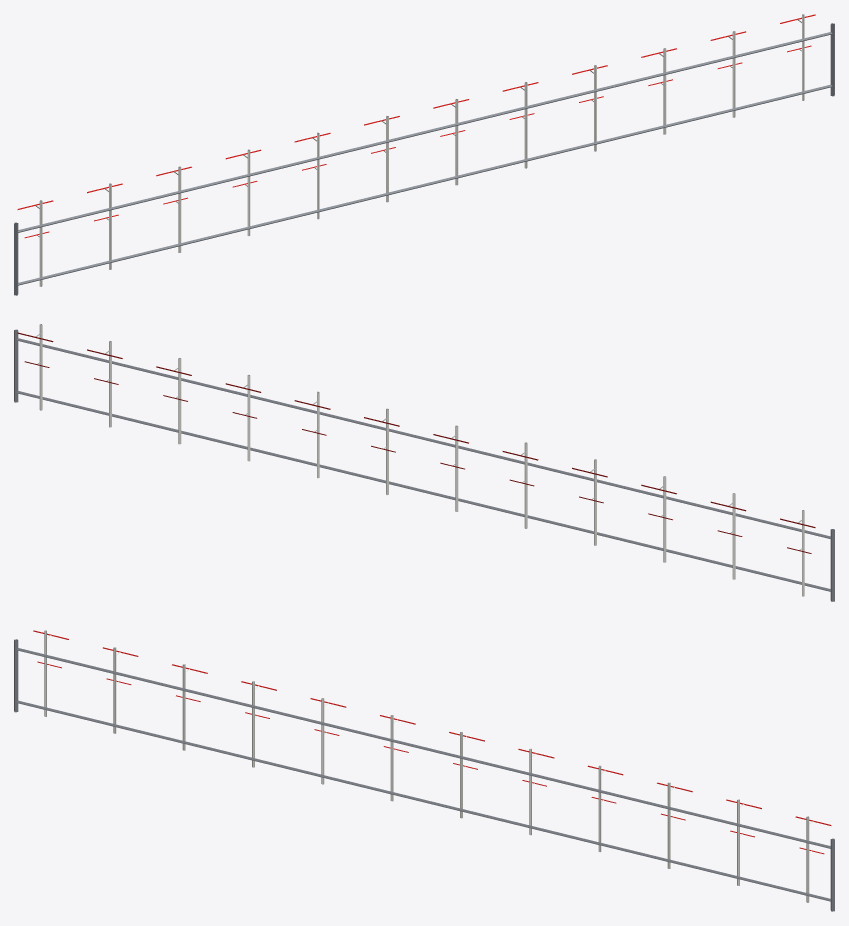
File: bne_ils_loc.dae
3 renders of one model, top to bottom at view 1: azimuth 30°, elevation 25°; view 2: azimuth 150°, elevation 25°; view 3: azimuth 330°, elevation 25°, orthographic.
Parts seen in each view (by area): view 1: bne_ils_loc96, bne_ils_loc12; view 2: bne_ils_loc96, bne_ils_loc12; view 3: bne_ils_loc96, bne_ils_loc12.
Part boxes in pixels (x1,y1,x2,y2): bne_ils_loc96: (14, 14, 834, 295); bne_ils_loc12: (40, 14, 804, 286); bne_ils_loc96: (14, 324, 834, 601); bne_ils_loc12: (40, 324, 804, 578); bne_ils_loc96: (14, 630, 834, 911); bne_ils_loc12: (44, 630, 808, 902).
Bounding box in the file's own units: 30.16 × 0.5925 × 3.
